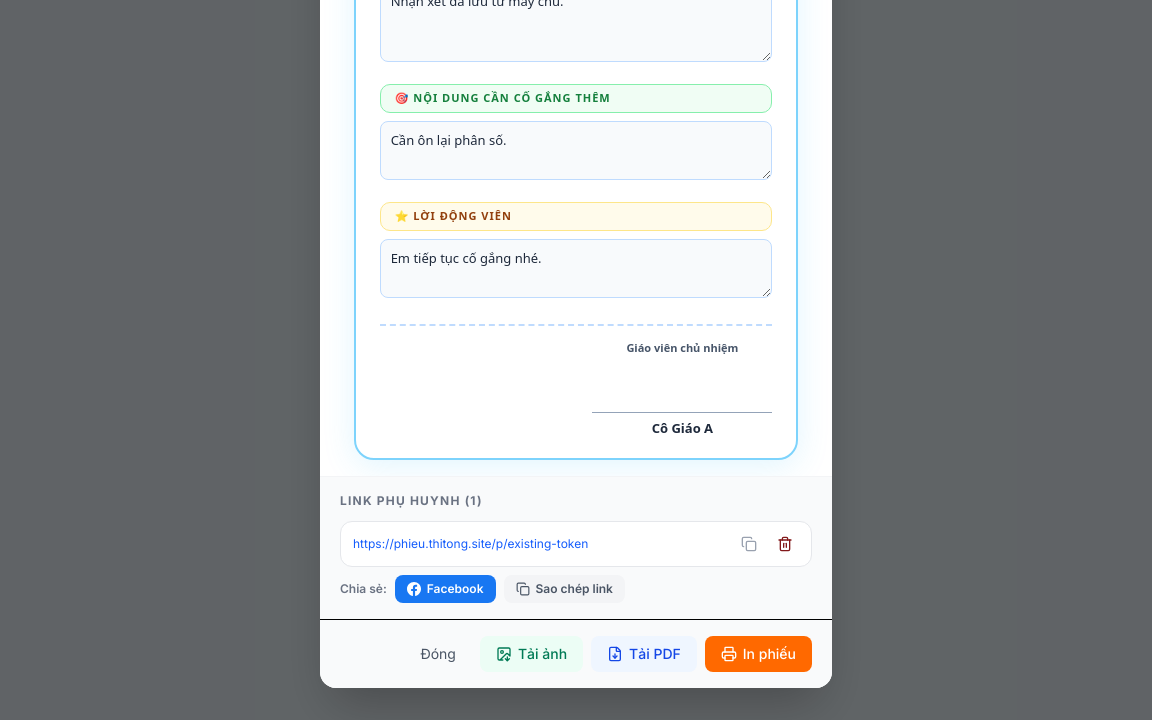
Test: result phieu modal hydration and printing › opens the dedicated print view instead of printing the whole dashboard immediately
(page scrolled)
Click the button titled "Mở hộp thoại in".
click(758, 654)  # box [705,636,812,672]
(page scrolled)
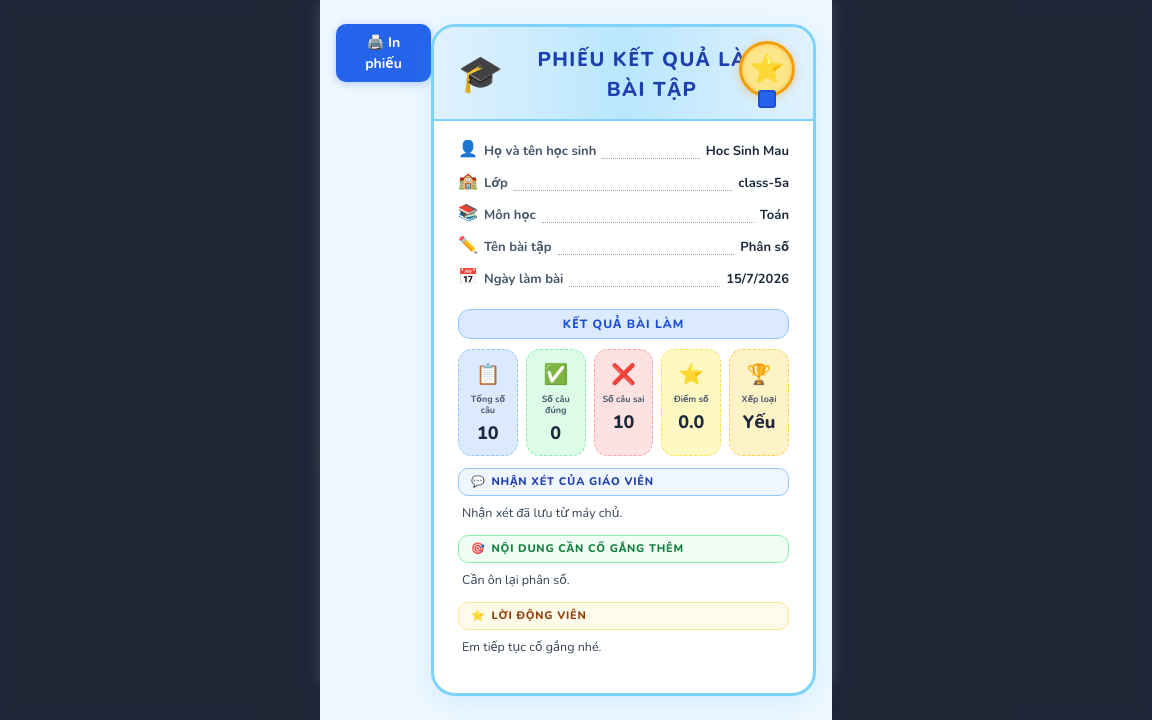
Expected: the element that starts with "🖨️ In phiếu" is shown, [320,0,832,719]
